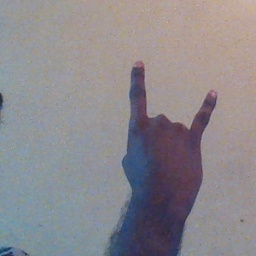V: (119, 54, 223, 202)
